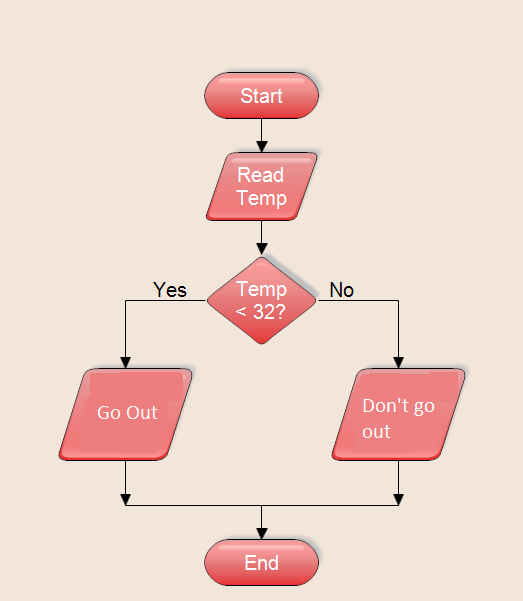arrow: (118, 297, 210, 370), (316, 296, 405, 369), (121, 501, 269, 544), (253, 501, 404, 539), (390, 460, 408, 506), (118, 457, 134, 507), (252, 218, 271, 257), (254, 114, 269, 155)
data: (55, 366, 195, 464), (328, 367, 469, 464), (204, 149, 320, 224)
decision: (205, 256, 319, 348)
terminator: (202, 537, 323, 588), (202, 70, 320, 122)
text: (359, 395, 437, 440), (232, 164, 288, 211), (232, 276, 288, 321), (94, 402, 160, 421), (238, 84, 288, 104), (241, 553, 281, 574), (150, 277, 188, 299), (328, 280, 356, 299)
